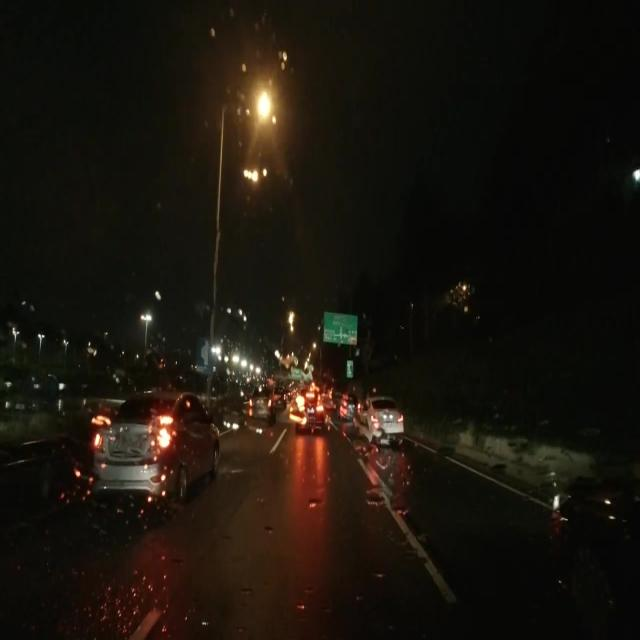Car: (96, 389, 217, 507), (548, 491, 639, 623), (353, 393, 400, 447), (293, 391, 322, 425), (250, 386, 271, 418)
